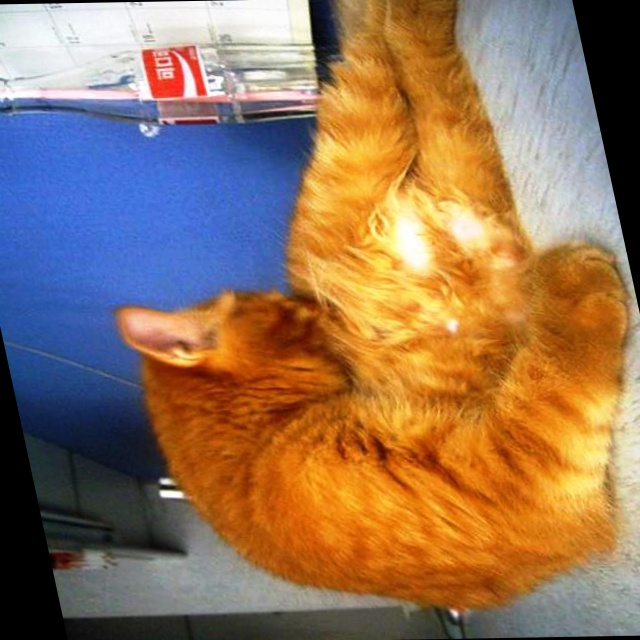hairloss: (385, 198, 512, 267)
